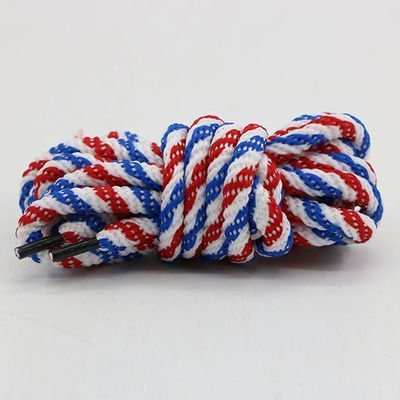9/可回收垃圾/绳子: (12, 109, 384, 272)
